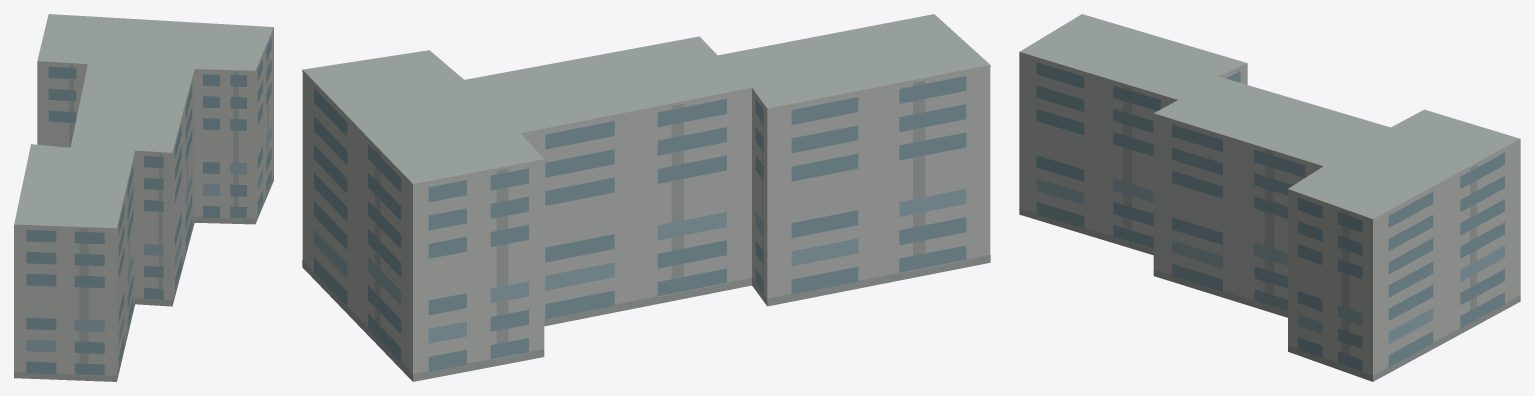
File: residential-cce9b156-92c7-4c74-88e2-11dc8d4d9a42.glb
3 renders of one model, left to right at view 1: azimuth 30°, elevation 25°; view 2: azimuth 150°, elevation 25°; view 3: azimuth 270°, elevation 25°, orthographic. The views are drawn at different scales.
Parts seen in each view (by area): view 1: residential-cce9b156-92c7-4c74-88e2-11dc8d4d9a42.tmp; view 2: residential-cce9b156-92c7-4c74-88e2-11dc8d4d9a42.tmp; view 3: residential-cce9b156-92c7-4c74-88e2-11dc8d4d9a42.tmp.
Part boxes in pixels (<box>): residential-cce9b156-92c7-4c74-88e2-11dc8d4d9a42.tmp: <box>14,14,273,381</box>; residential-cce9b156-92c7-4c74-88e2-11dc8d4d9a42.tmp: <box>302,14,990,381</box>; residential-cce9b156-92c7-4c74-88e2-11dc8d4d9a42.tmp: <box>1019,14,1520,381</box>.
Bounding box in the file's own units: 51.38 × 19 × 53.03.
